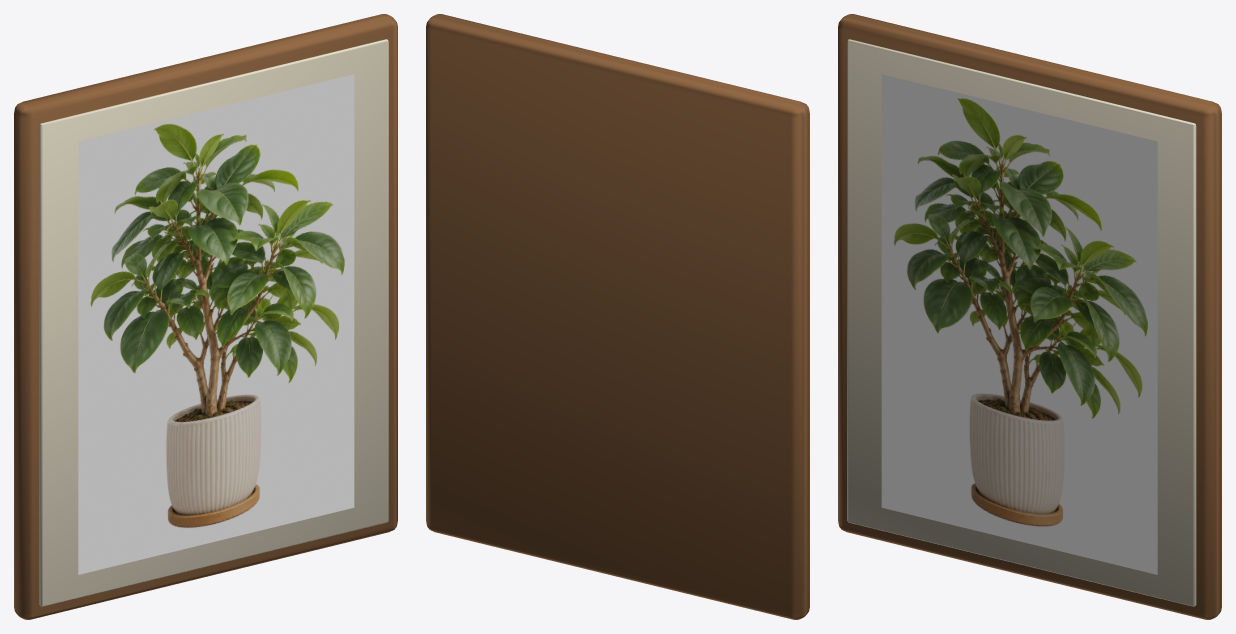
The model's file is urban-botanical-frame-v1.glb.
The picture shows the model from 3 angles, left to right: view 1: azimuth 30°, elevation 25°; view 2: azimuth 150°, elevation 25°; view 3: azimuth 330°, elevation 25°; orthographic projection.
Parts seen in each view (by area): view 1: Botanical print, Gallery mount, Gallery backing; view 2: Gallery backing; view 3: Botanical print, Gallery mount, Gallery backing.
Part boxes in pixels (<box>): Botanical print: <box>78,74,354,574</box>; Gallery mount: <box>39,39,388,606</box>; Gallery backing: <box>14,14,397,619</box>; Gallery backing: <box>426,14,809,619</box>; Botanical print: <box>881,74,1157,574</box>; Gallery mount: <box>847,39,1196,606</box>; Gallery backing: <box>838,14,1221,619</box>.
Bounding box in the file's own units: 0.4 × 0.52 × 0.0315.
Materials: 3 (3 with a texture image).
